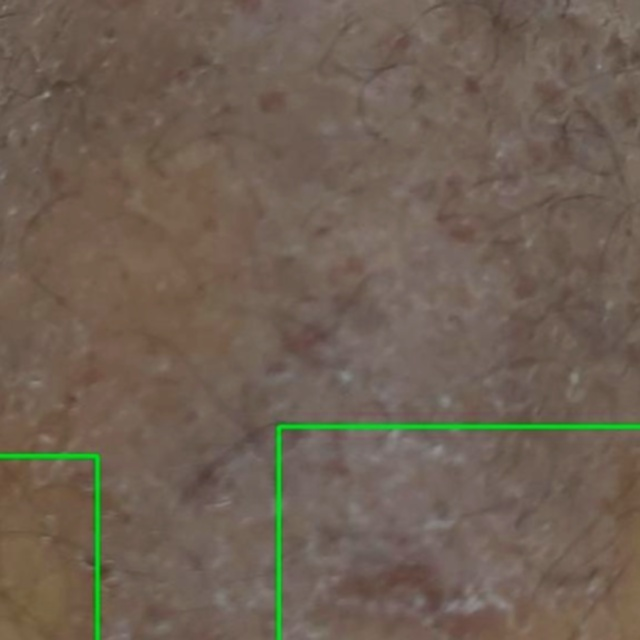Eczema: (279, 426, 639, 639), (0, 456, 97, 639)
